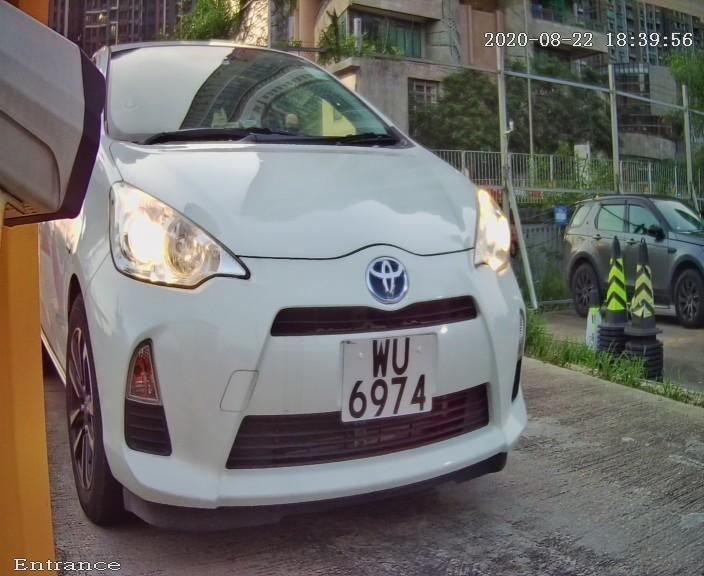License Plate: (327, 324, 444, 435)
